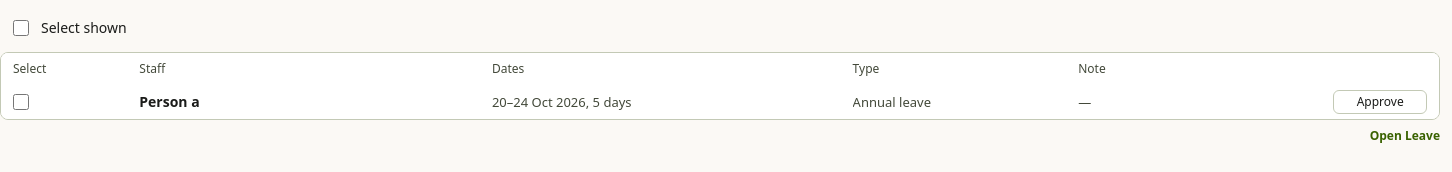
Test: QuickGroup — one tap › keeps its link and notice, with no table, while a notice is held after its last row has left
Click the button with aria-label "Approve leave: Person a" at (1380, 102), box x1=1333 y1=90 x2=1427 y2=114
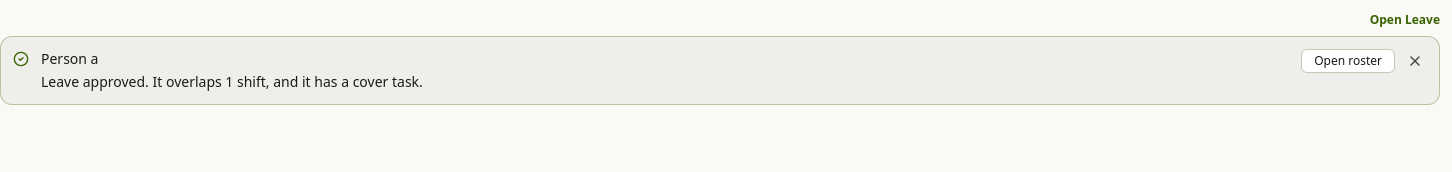
Check: the link "Open Leave" is shown, box x1=1370 y1=12 x2=1440 y2=28
Check: the text "Leave approved. It overlaps 1 shift, and it has a cover task." is shown, box x1=41 y1=72 x2=423 y2=91
Check: the table is gone
